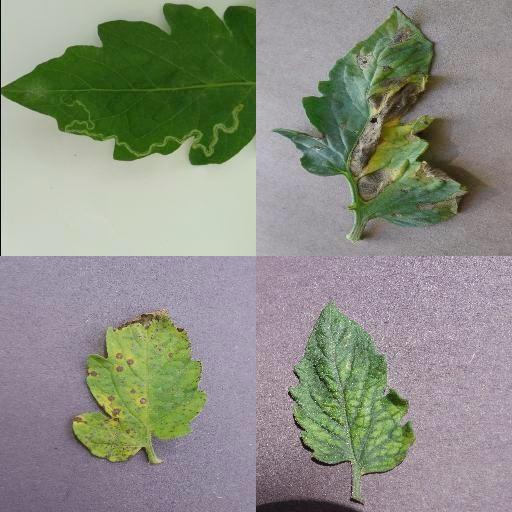Early Blight: (272, 5, 469, 225)
Leaf Miner: (0, 3, 256, 168)
Mosaic Virus: (289, 294, 415, 474)
Septoria: (72, 309, 207, 463)
